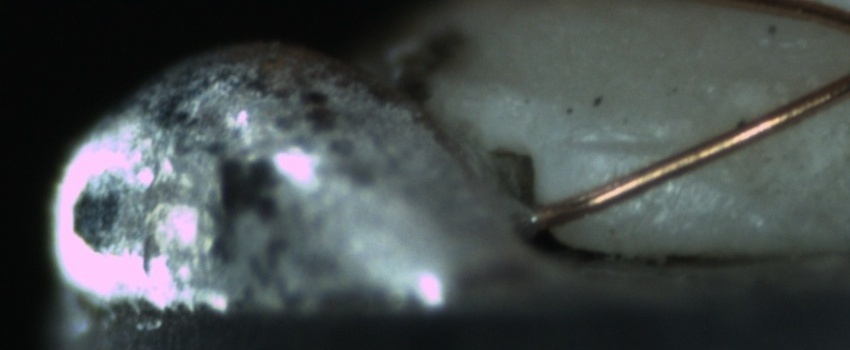DL: (568, 113, 686, 174)
